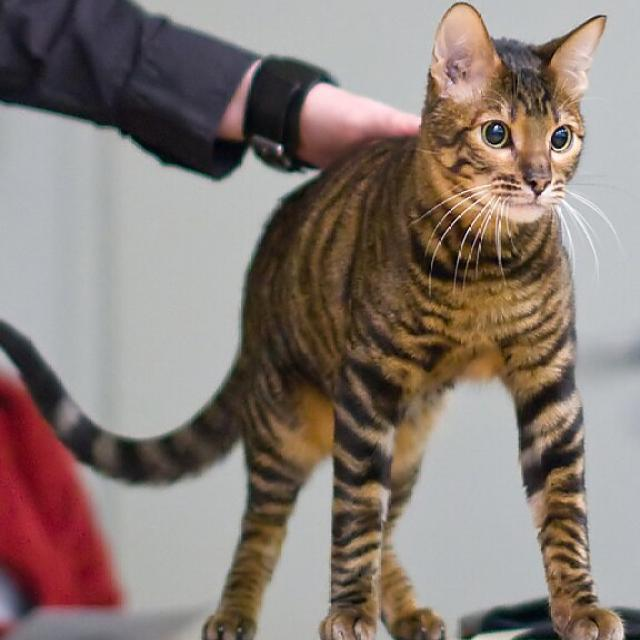Toyger: (0, 0, 627, 640)
